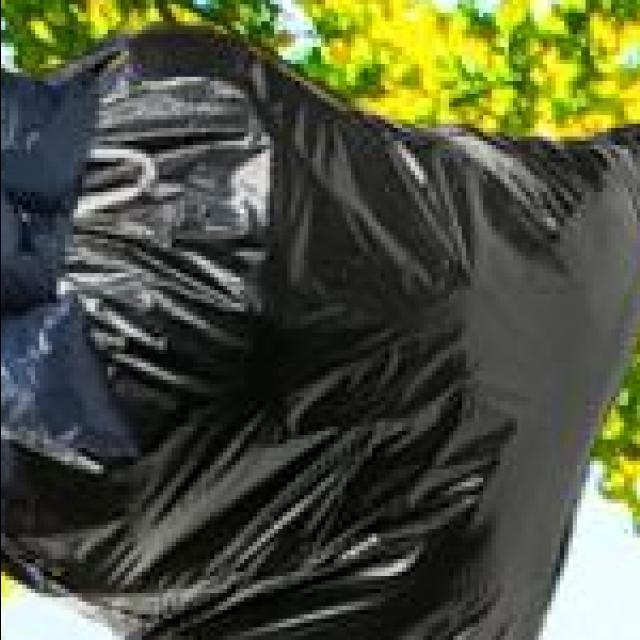Trashbag: (5, 83, 629, 625)
